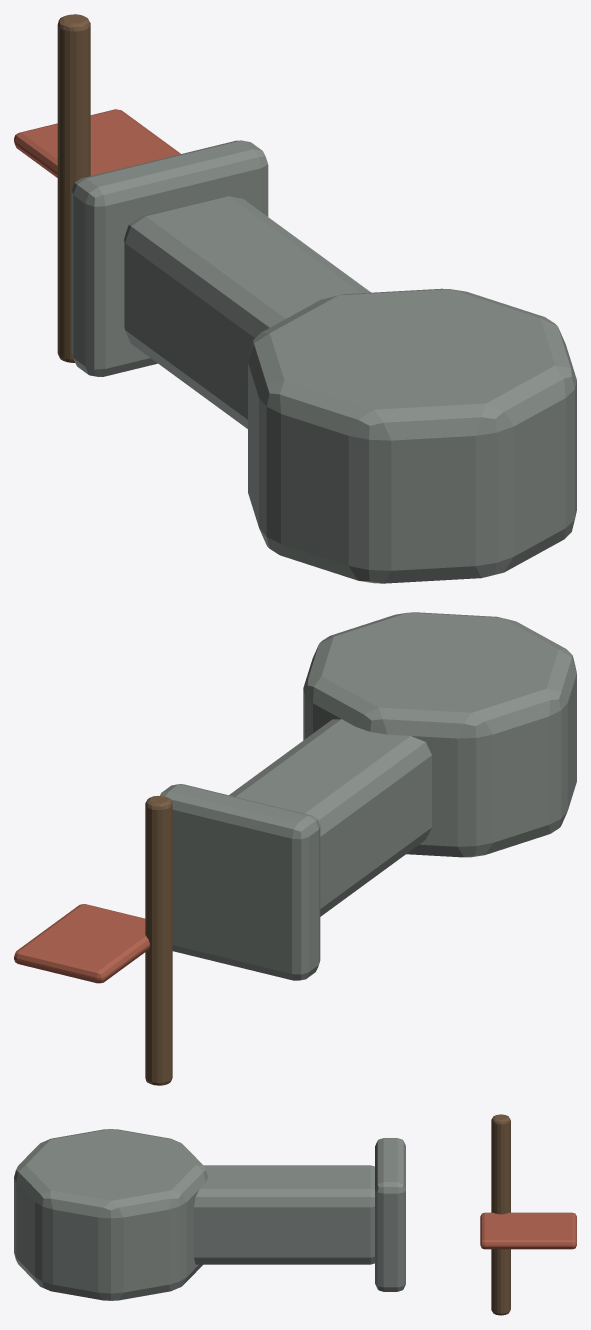
The model's file is barrosan_boundary_marker.glb.
3 views of the same model, one above another, from view 1: azimuth 30°, elevation 25°; view 2: azimuth 150°, elevation 25°; view 3: azimuth 270°, elevation 25° (orthographic). The views are drawn at different scales.
Parts seen in each view (by area): view 1: BoundaryMarkerBase, BoundaryMarkerPillar, BoundaryMarkerCap, BoundaryMarkerPole, BoundaryMarkerCloth; view 2: BoundaryMarkerBase, BoundaryMarkerCap, BoundaryMarkerPillar, BoundaryMarkerPole, BoundaryMarkerCloth; view 3: BoundaryMarkerBase, BoundaryMarkerPillar, BoundaryMarkerCap, BoundaryMarkerCloth, BoundaryMarkerPole.
Boxes of the visible parts, <box> form: BoundaryMarkerBase: <box>248,288,576,583</box>; BoundaryMarkerPillar: <box>124,196,370,428</box>; BoundaryMarkerCap: <box>71,140,268,376</box>; BoundaryMarkerPole: <box>57,14,90,362</box>; BoundaryMarkerCloth: <box>14,109,180,177</box>; BoundaryMarkerBase: <box>303,612,576,857</box>; BoundaryMarkerCap: <box>160,784,320,980</box>; BoundaryMarkerPillar: <box>229,719,431,916</box>; BoundaryMarkerPole: <box>145,795,172,1085</box>; BoundaryMarkerCloth: <box>14,904,149,983</box>; BoundaryMarkerBase: <box>14,1129,207,1300</box>; BoundaryMarkerPillar: <box>194,1165,374,1264</box>; BoundaryMarkerCap: <box>375,1138,405,1291</box>; BoundaryMarkerCloth: <box>480,1212,576,1249</box>; BoundaryMarkerPole: <box>491,1114,510,1315</box>.
Size of the model in its own units: 1.12 by 1.25 by 3.26.
